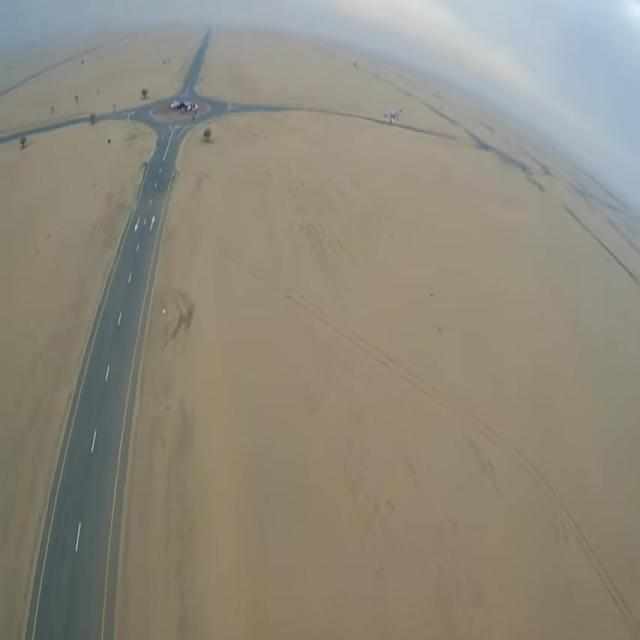iha: (376, 41, 397, 62)
